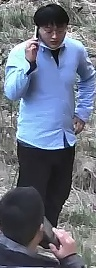phone: (5, 21, 46, 101)
